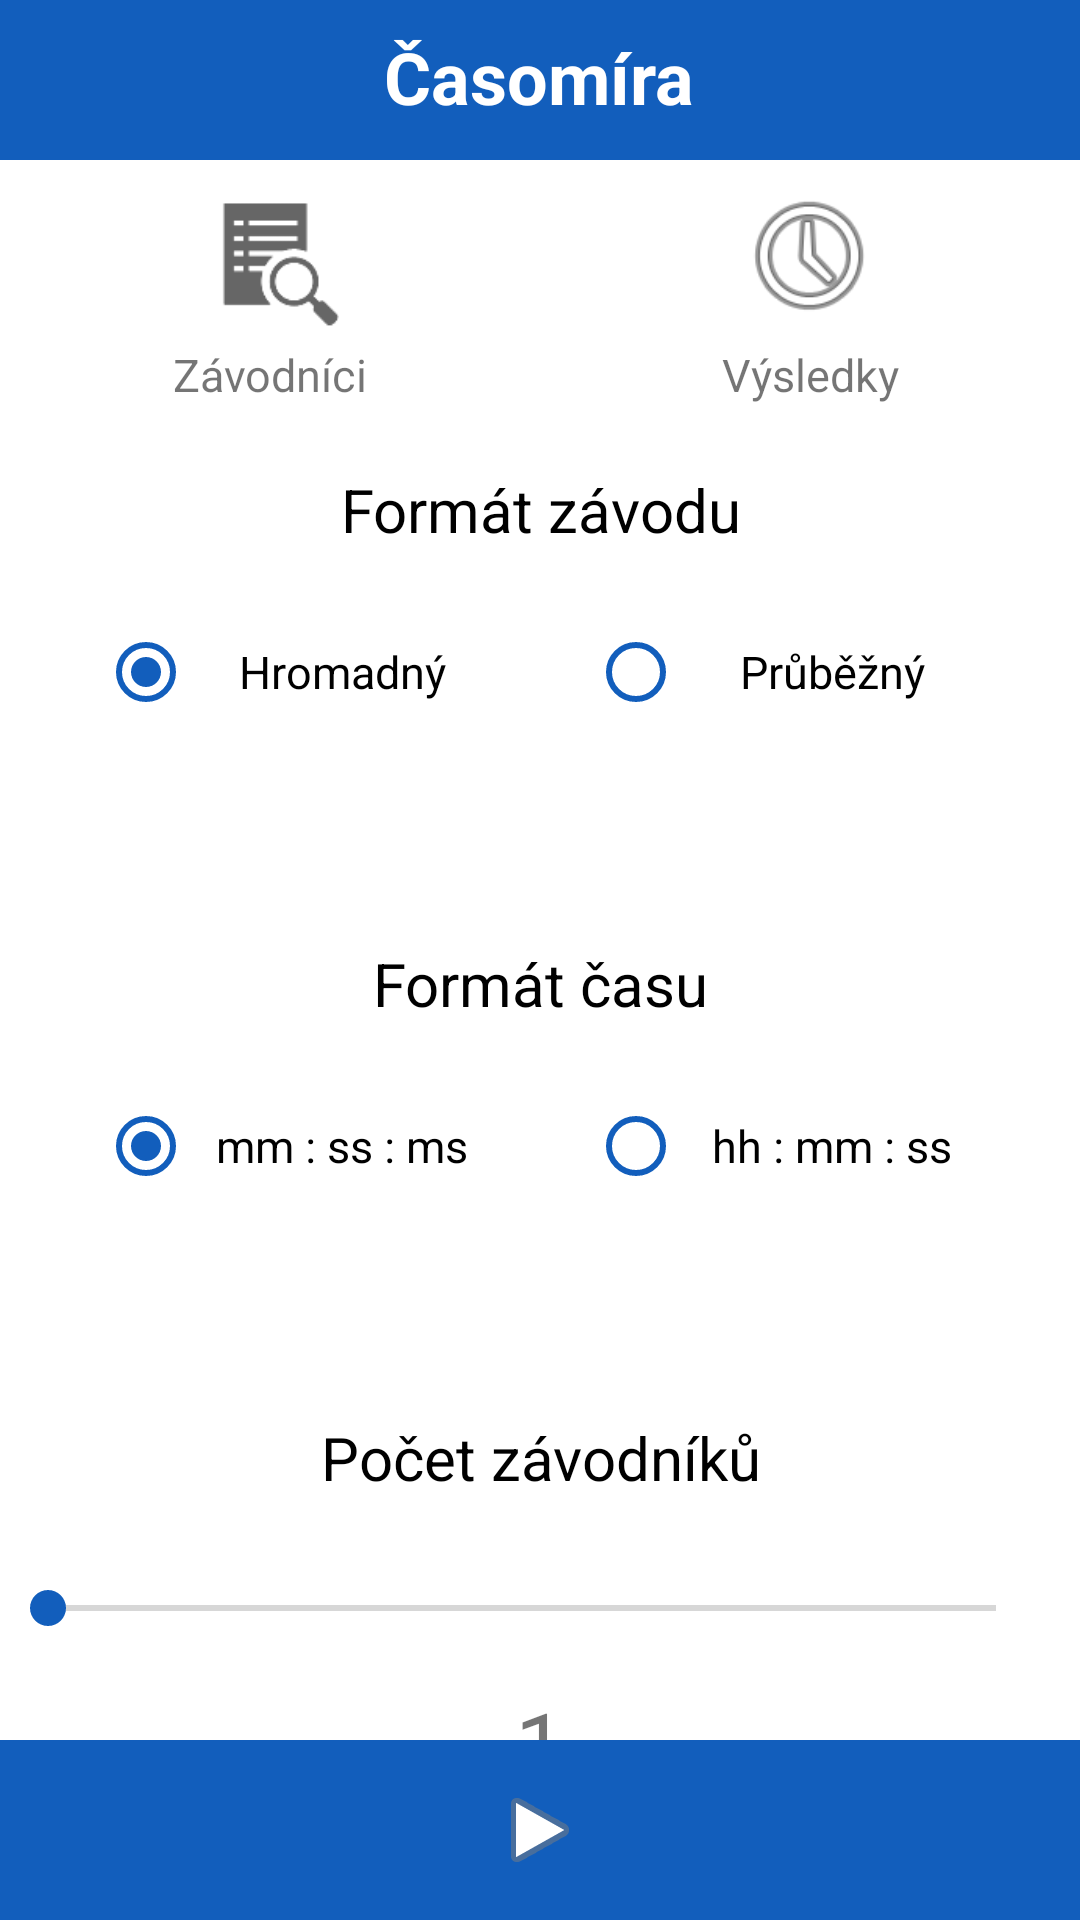

Screen size 1080w x 1920h. Icon name, then its box in pixels as rect(x1, y1, x2, y2):
recent history: rect(755, 201, 864, 310)
